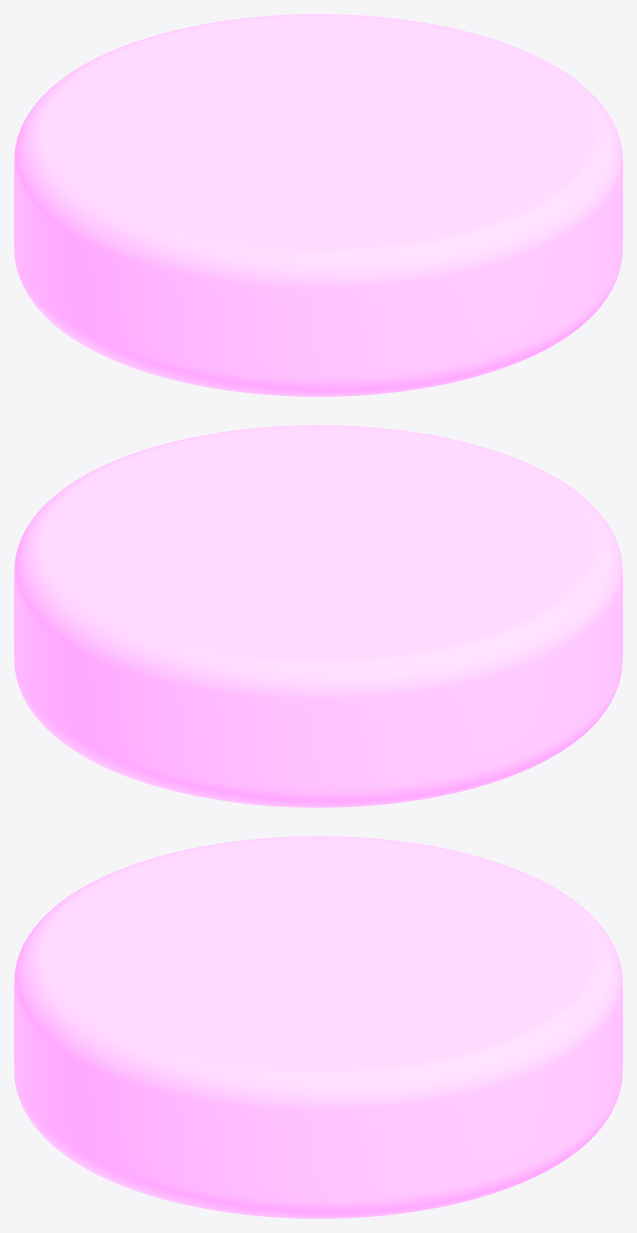
3 views of the same model, one above another, from view 1: azimuth 30°, elevation 25°; view 2: azimuth 150°, elevation 25°; view 3: azimuth 270°, elevation 25° (orthographic).
Visible parts, largest first — view 1: Cylinder; view 2: Cylinder; view 3: Cylinder.
Part boxes in pixels (<box>): Cylinder: <box>14,14,622,396</box>; Cylinder: <box>14,425,622,807</box>; Cylinder: <box>14,836,622,1218</box>.
Size of the model in its own units: 199 by 53.2 by 199.
